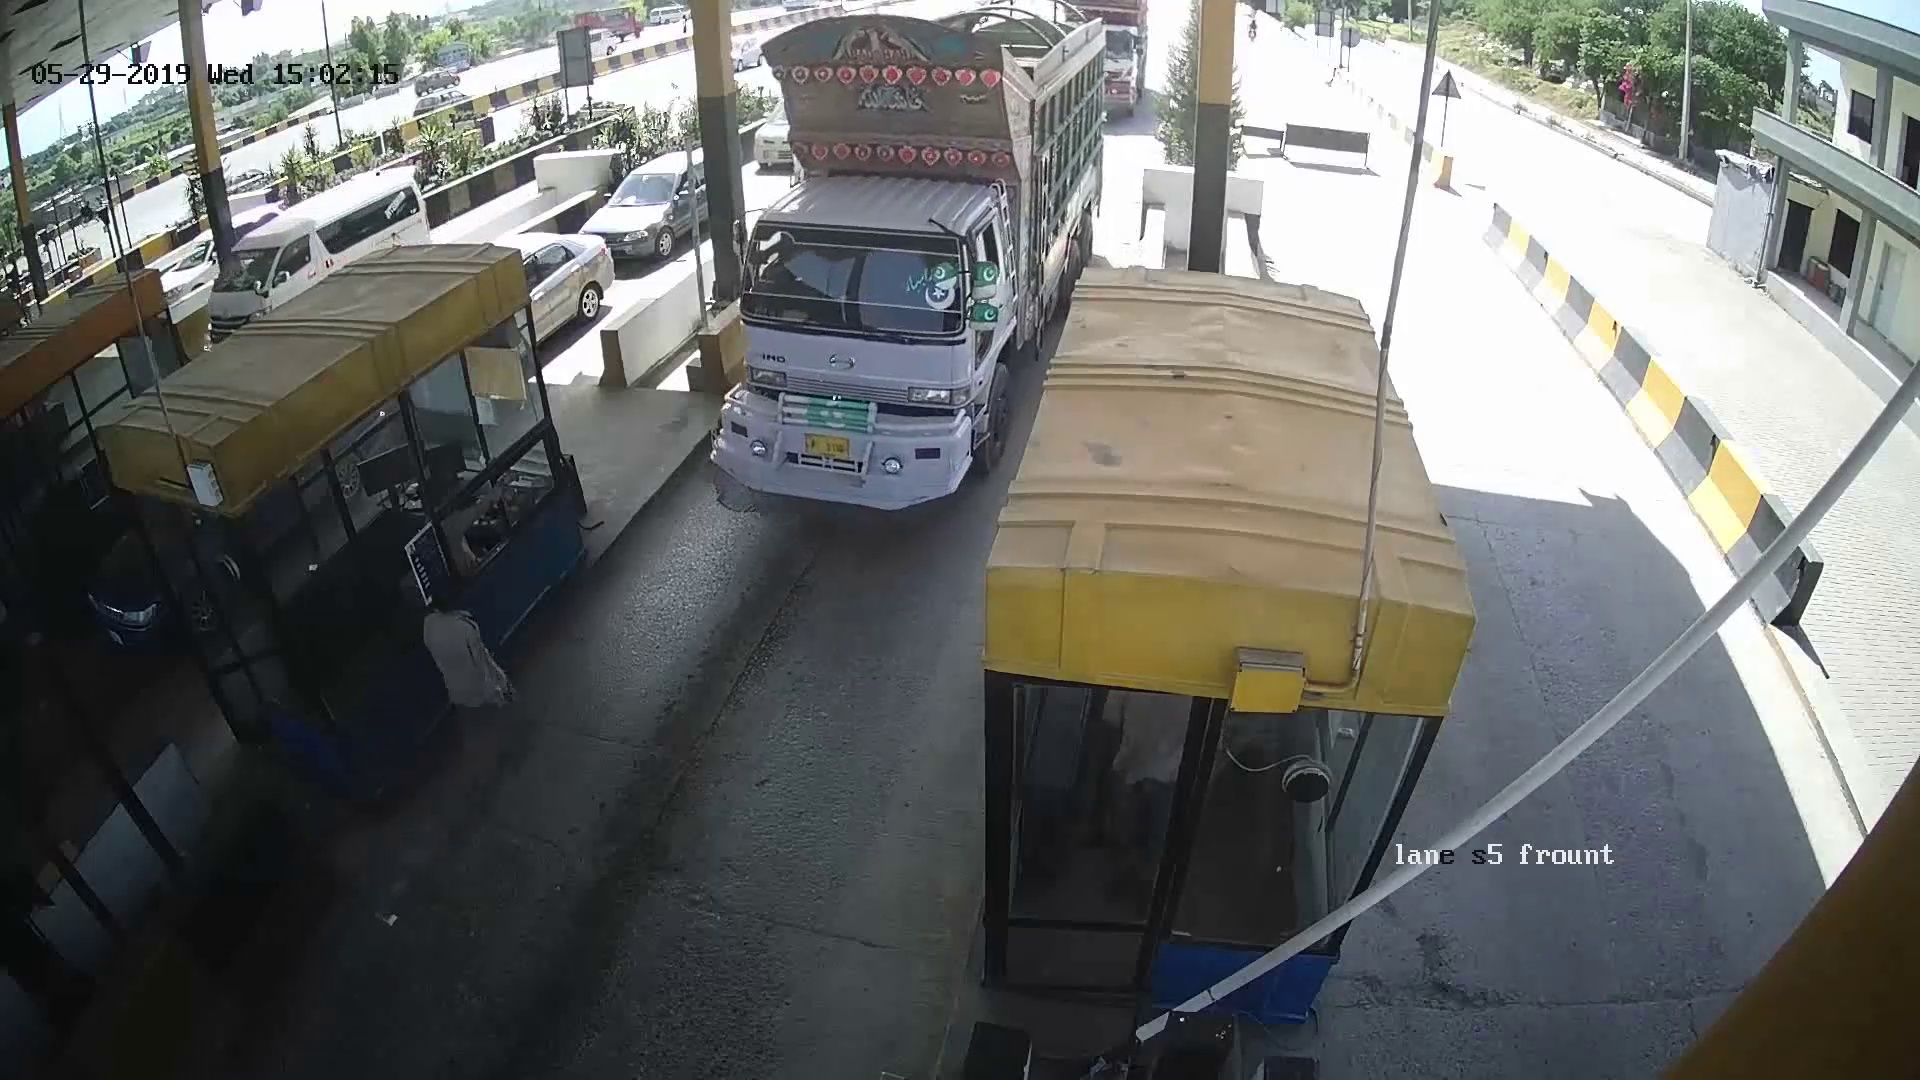truck: (742, 42, 1051, 525)
